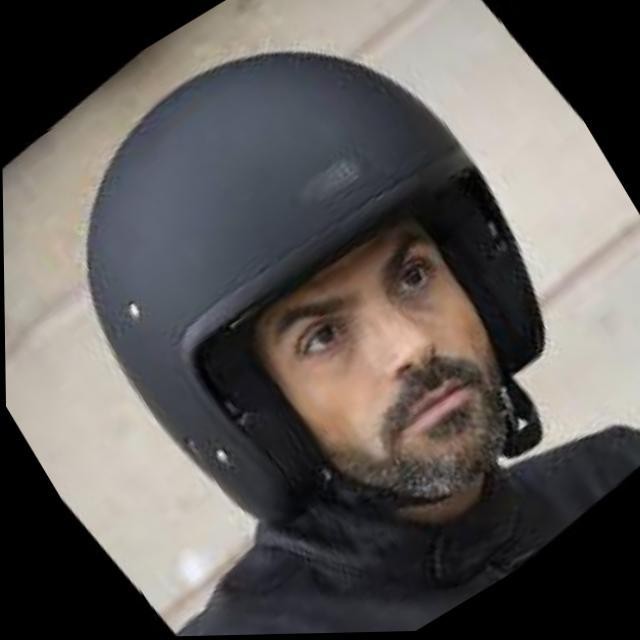Helmet: (70, 28, 558, 534)
